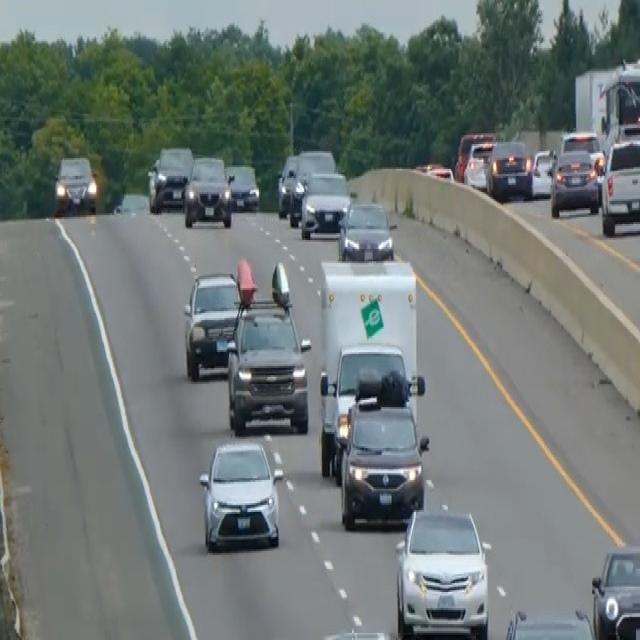car: (338, 368, 429, 530), (198, 436, 284, 551), (182, 268, 243, 381), (590, 542, 639, 638), (600, 137, 639, 235), (183, 153, 233, 227), (300, 169, 351, 240), (549, 146, 599, 218), (288, 148, 335, 224), (337, 199, 394, 261), (146, 144, 193, 212), (503, 604, 596, 638), (486, 137, 532, 199), (53, 153, 97, 215), (559, 128, 605, 174), (225, 162, 260, 212), (463, 137, 496, 190), (275, 151, 299, 217), (527, 146, 556, 197), (454, 130, 475, 180), (415, 158, 454, 183)
jeep: (225, 260, 312, 436)
minivan: (393, 499, 492, 636)
truck: (316, 256, 419, 478)
